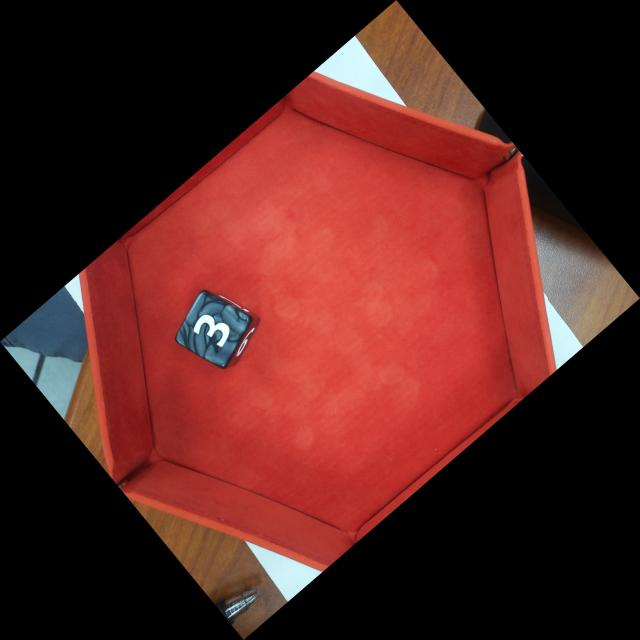dice: (170, 289, 253, 370)
